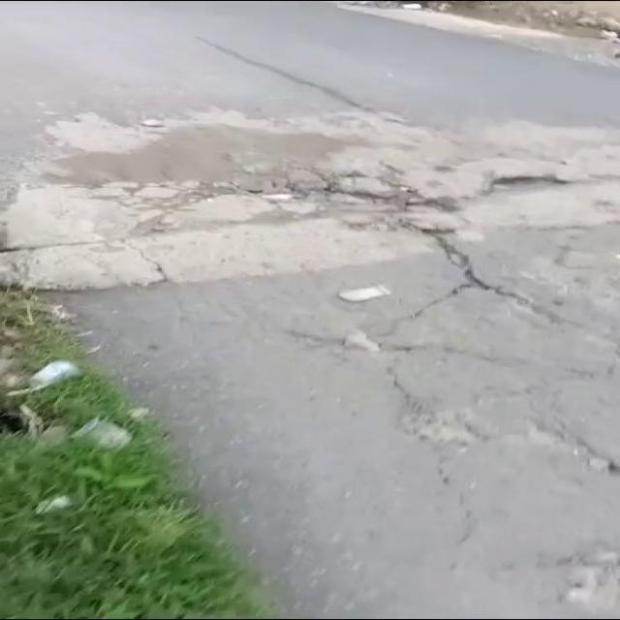lubang: (0, 114, 619, 289)
